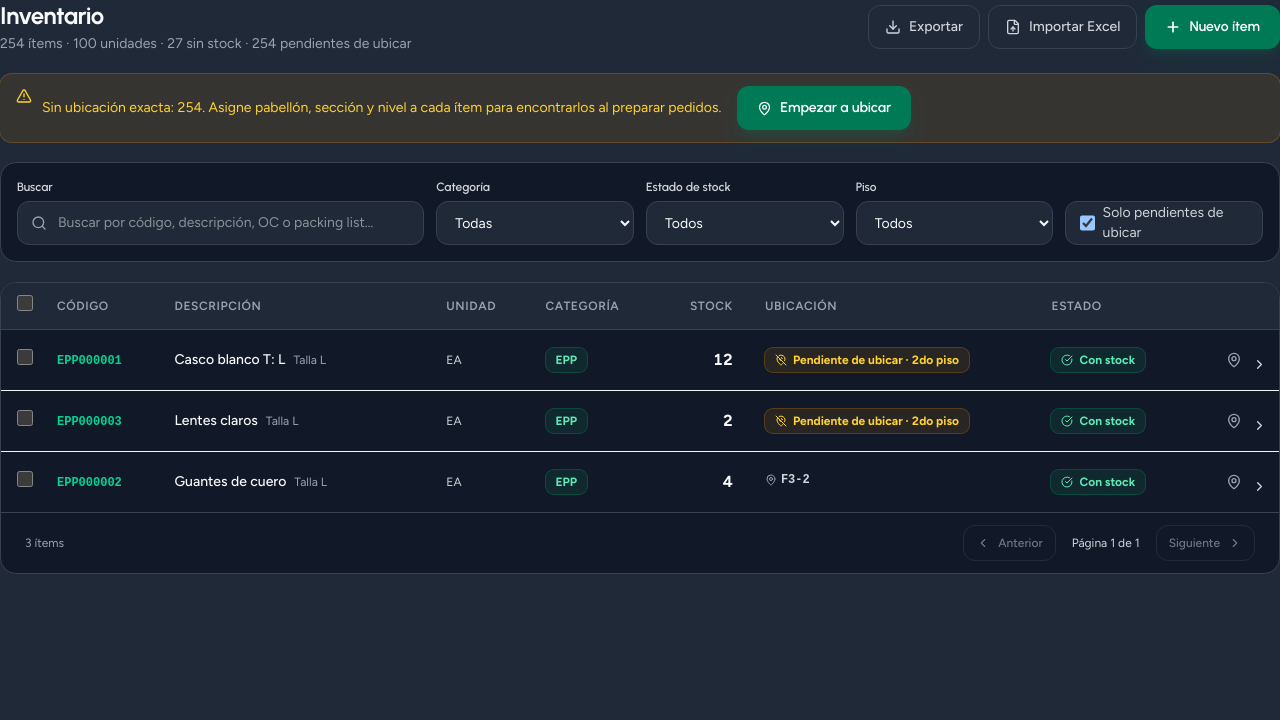
InventarioPage — «Empezar a ubicar» › cerrar el diálogo sin asignar no envía nada ni recarga el listado
Expected: the link "EPP000001" is shown, [57,354,122,368]
Click the button "Empezar a ubicar".
click(824, 108)  # box [737,86,911,130]
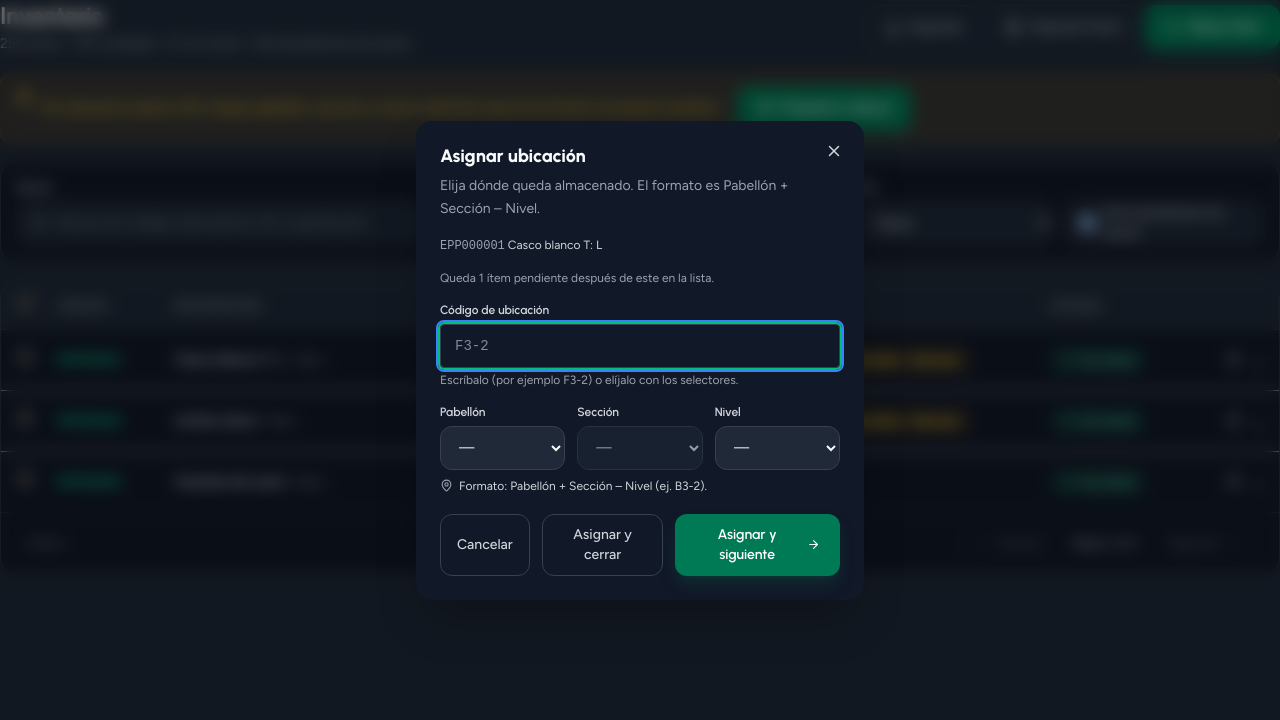
Click the button "Cancelar".
click(485, 544)  # box [440,514,530,576]
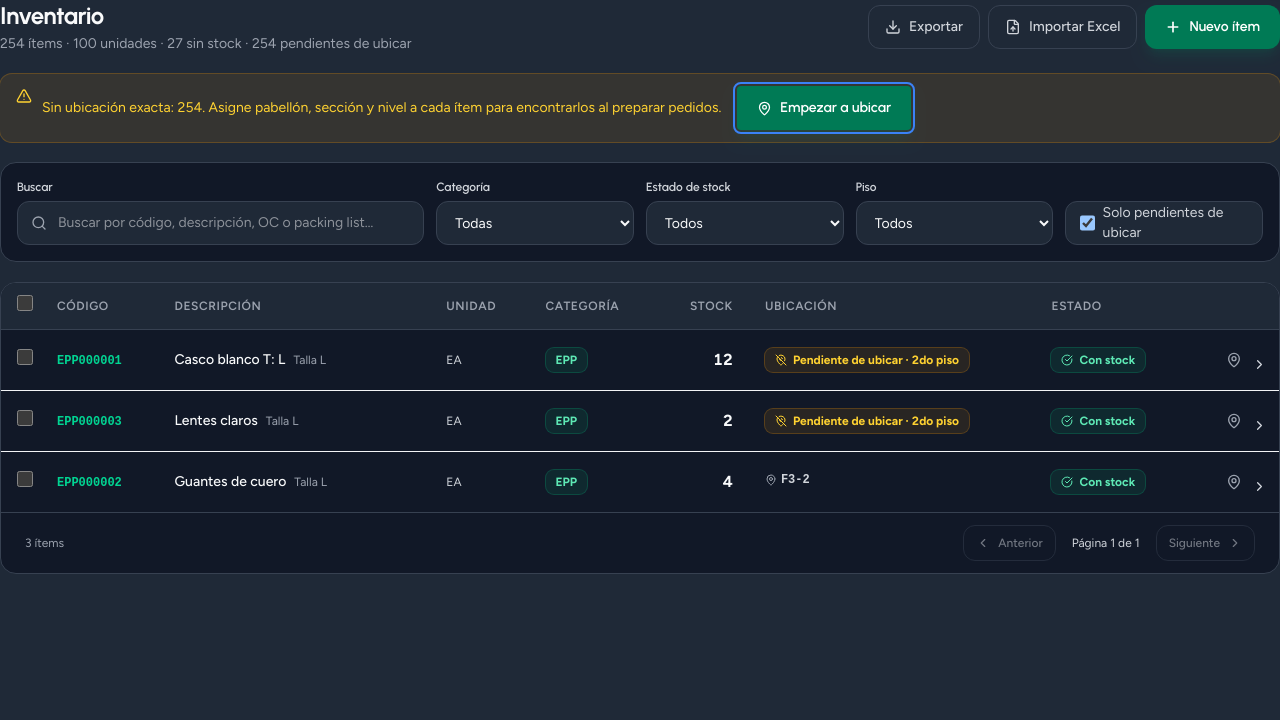
Result: the dialog is gone
